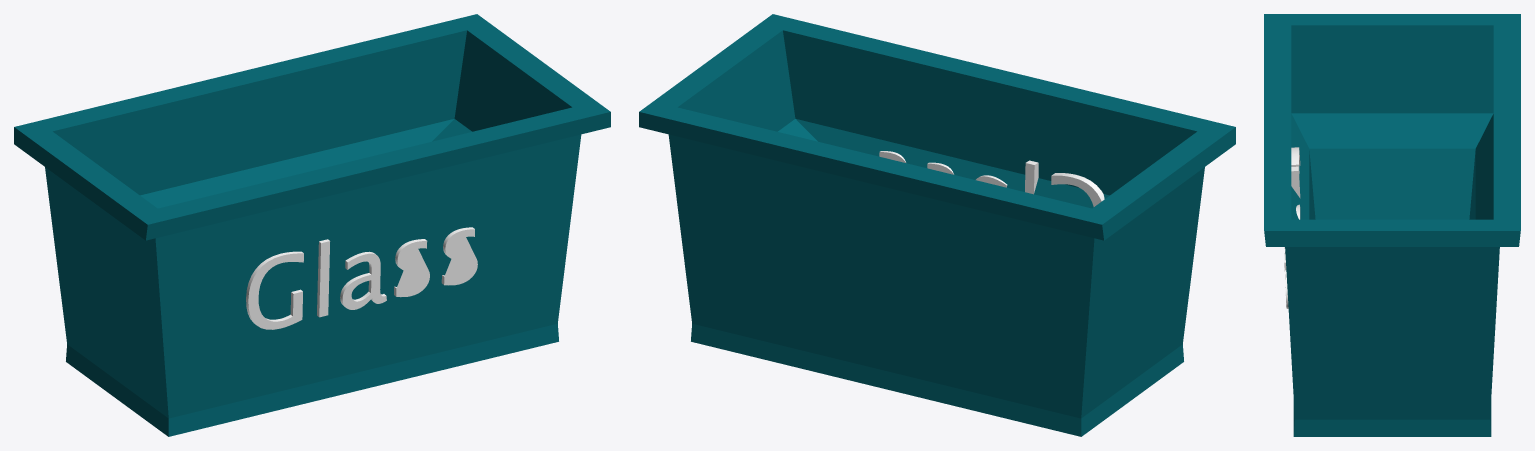
The model's file is Tip Container Glass.fbx.
The picture shows the model from 3 angles, left to right: view 1: azimuth 30°, elevation 25°; view 2: azimuth 150°, elevation 25°; view 3: azimuth 270°, elevation 25°; orthographic projection. The views are drawn at different scales.
Visible parts, largest first — view 1: pCube2, typeMesh1; view 2: pCube2, typeMesh1; view 3: pCube2, typeMesh1.
Part boxes in pixels (x1,y1,x2,y2): pCube2: (14, 14, 610, 436); typeMesh1: (246, 227, 477, 329); pCube2: (639, 14, 1235, 436); typeMesh1: (879, 151, 1104, 206); pCube2: (1264, 14, 1520, 436); typeMesh1: (1284, 147, 1300, 308).
Bounding box in the file's own units: 10.48 × 5 × 5.22.
